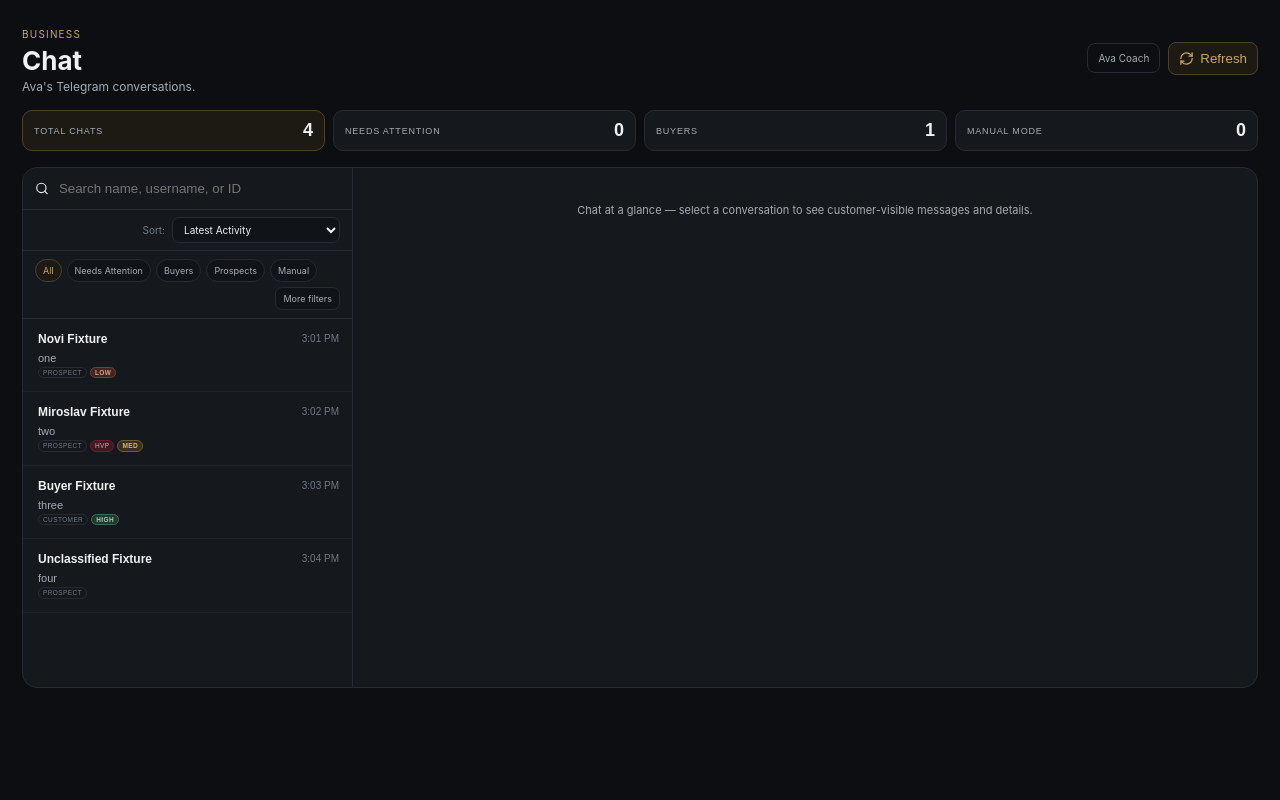
Scenario: labels Country Tier distinctly, keeps compact accessible badges, and preserves unclassified
Expected: the text "Novi Fixture" is shown, [38,332,107,346]
Expected: the text named "Country Tier: Low" reads "LOW", [95,369,111,376]
Click the button "Miroslav Fixture". click: (84, 412)
box: [23,392,352,466]
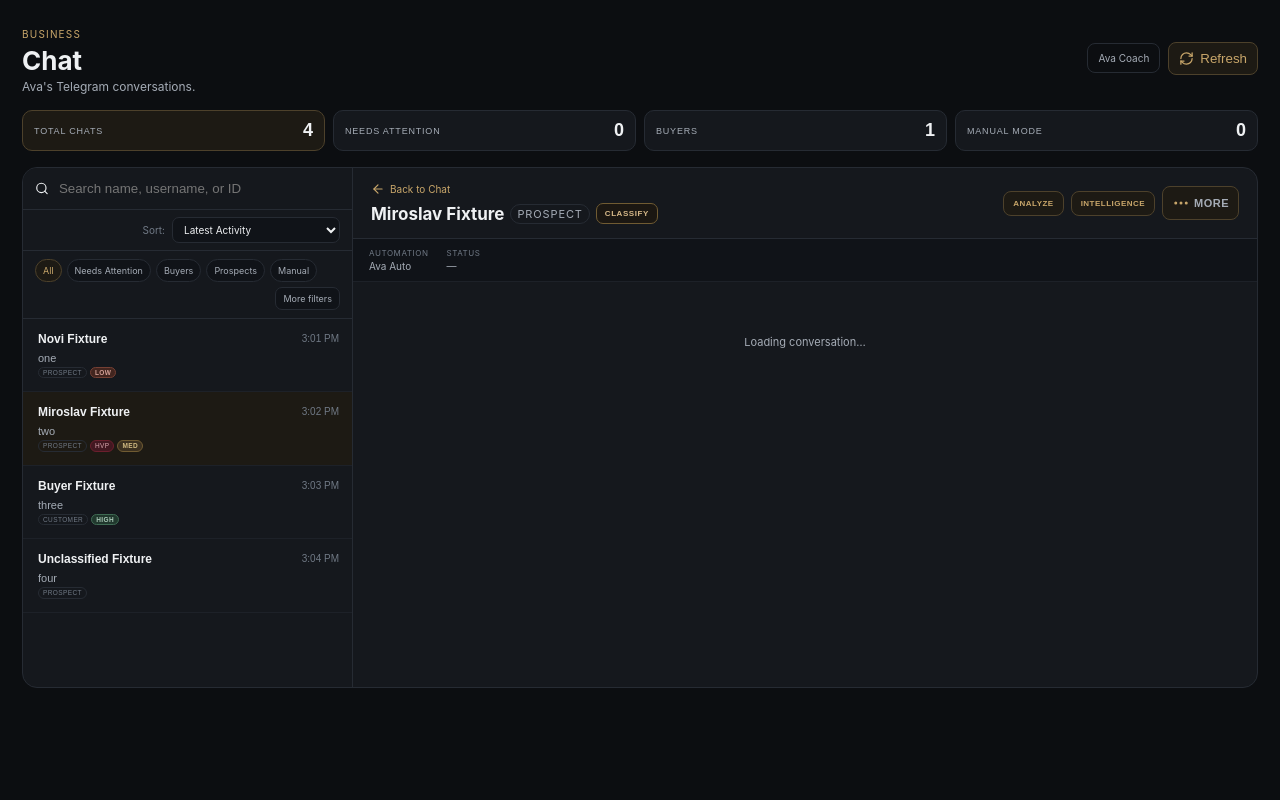
Click the button with aria-label "Classify relationship". click: (627, 214)
box: [596,203,658,224]
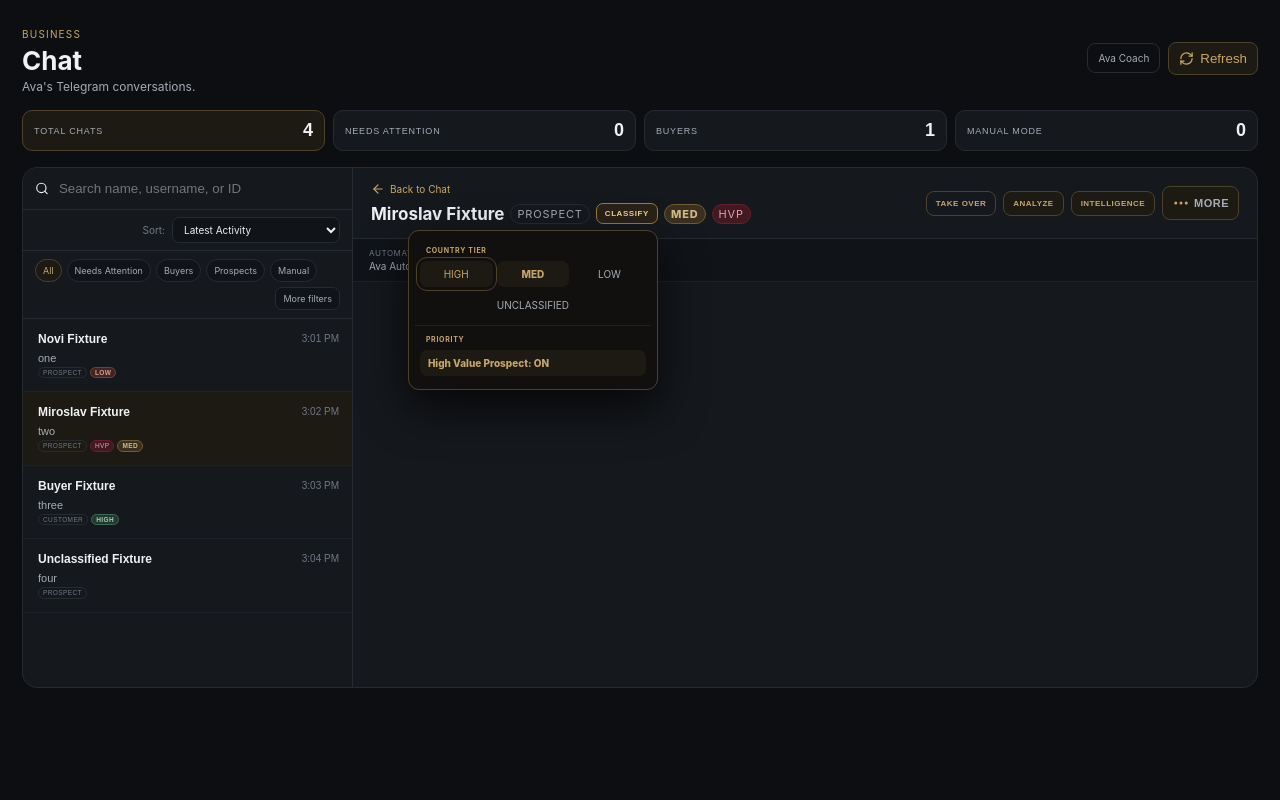
Expected: the text "Country Tier" is shown, [426,246,487,255]
Expected: the menu item "HIGH" is shown, [420,261,493,287]
Expected: the menu item "MED" is shown, [496,261,569,287]
